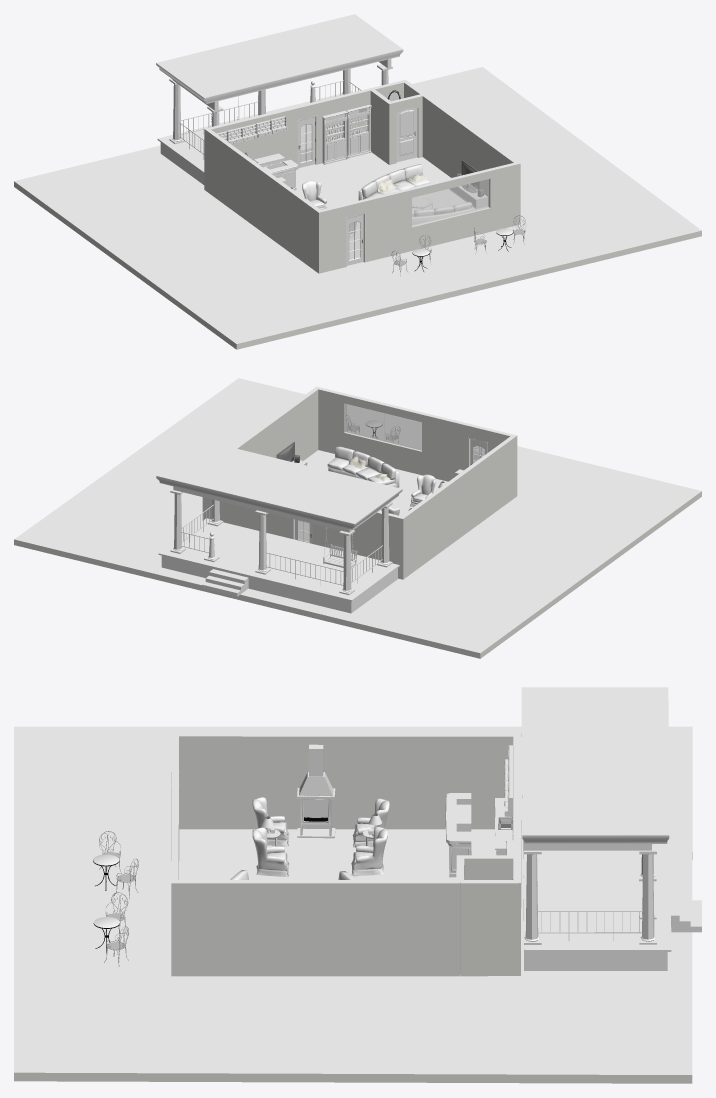
File: smoking-lounge.glb
The picture shows the model from 3 angles, top to bottom: view 1: azimuth 30°, elevation 25°; view 2: azimuth 150°, elevation 25°; view 3: azimuth 270°, elevation 25°; orthographic projection. The views are drawn at different scales.
Parts seen in each view (by area): view 1: Object_2, Object_19; view 2: Object_2, Object_19; view 3: Object_2.
Part boxes in pixels (<box>): Object_2: <box>14,14,701,349</box>; Object_19: <box>219,118,488,259</box>; Object_2: <box>14,378,701,658</box>; Object_19: <box>298,404,484,542</box>; Object_2: <box>14,687,701,1083</box>.
Size of the model in its own units: 21.72 by 4.29 by 18.12.
2 materials, 2 textured.
